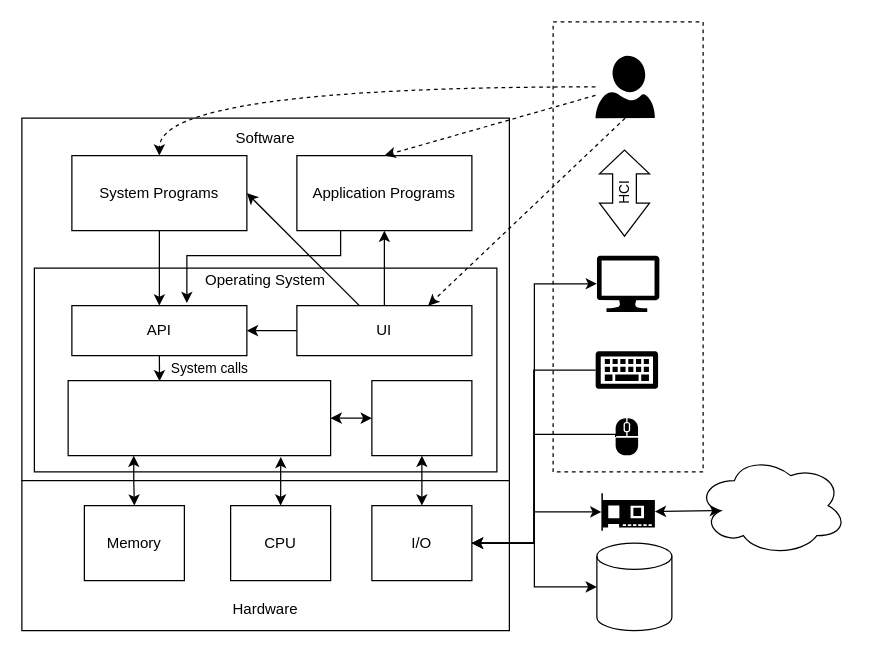
Image size: 869x653. Some labels were removed from this diagram. The centre of each missing label's shape, as x and y in pixels:
"Device Drivers" goes at pixel 421 417.
"File System" goes at pixel 634 586.
"Kernel" goes at pixel 199 417.
"Network" goes at pixel 771 505.
"User" goes at pixel 624 86.
